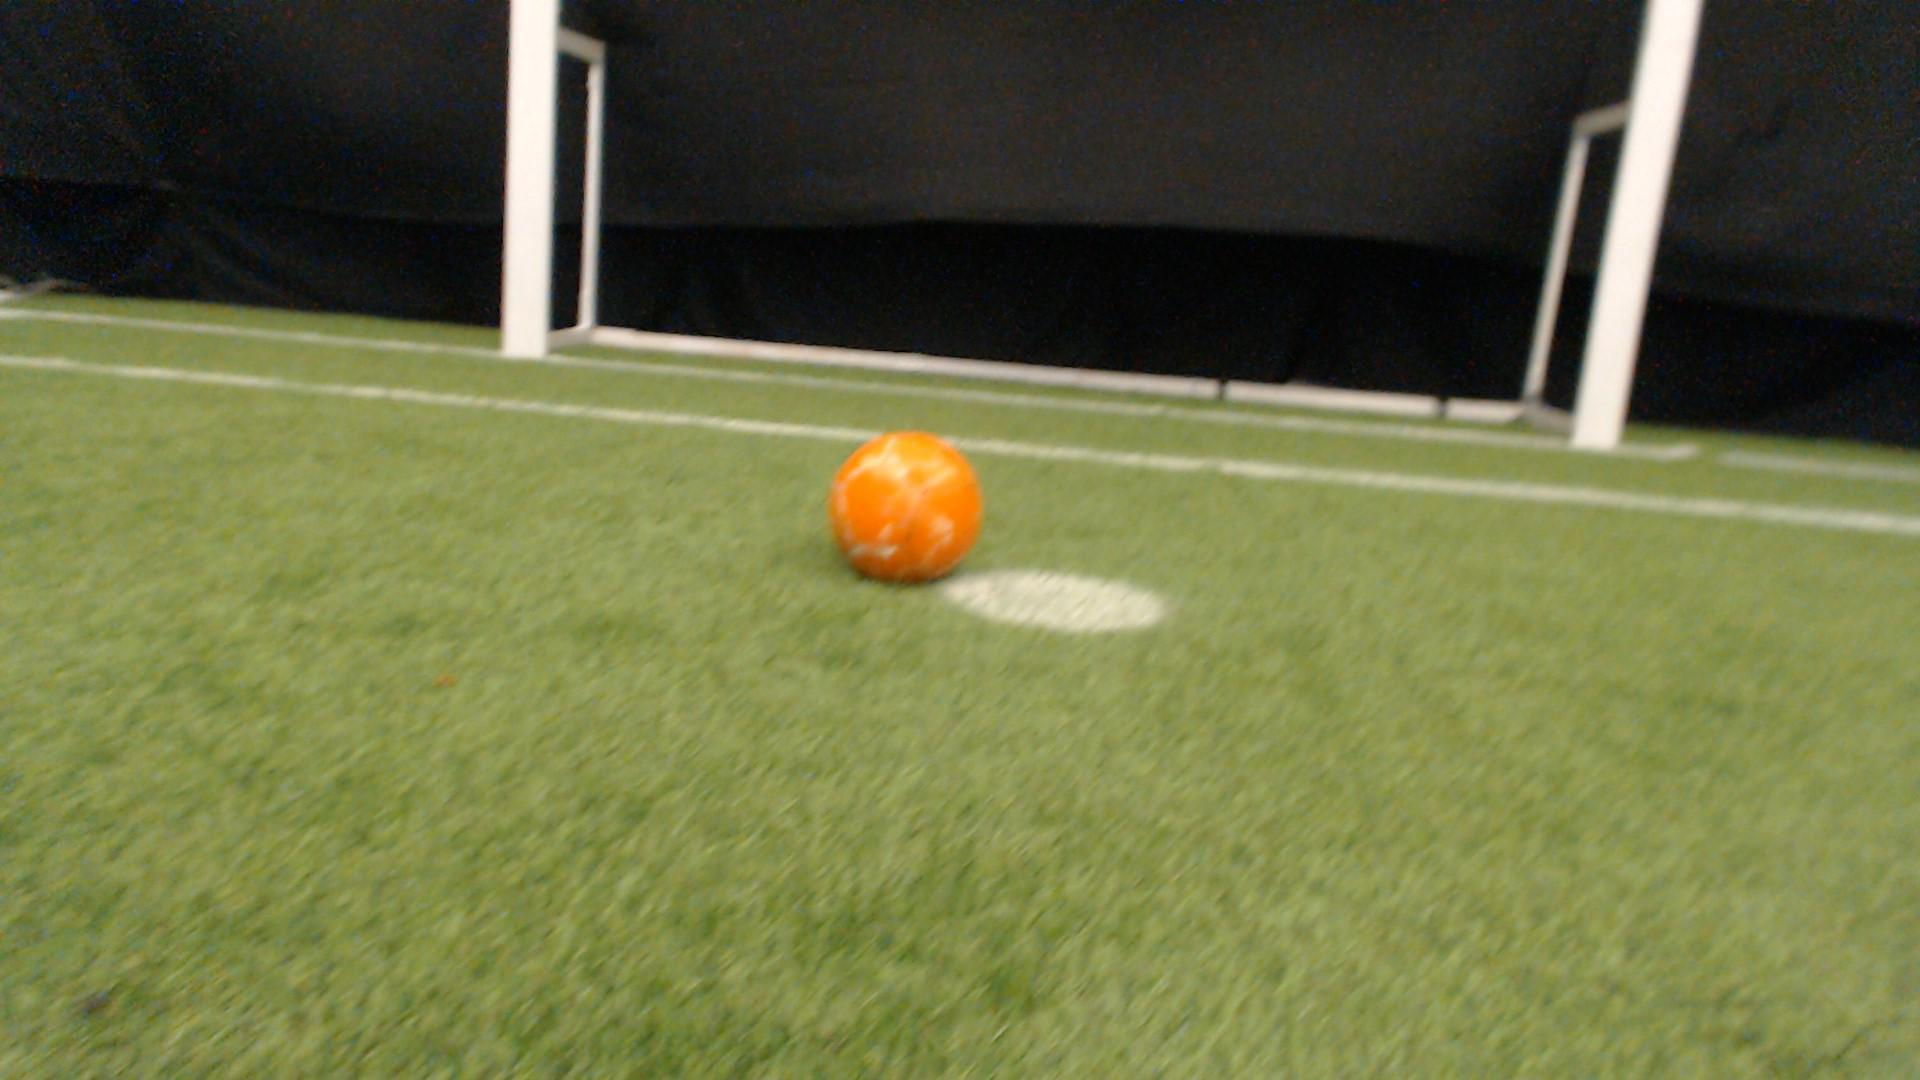bola: (823, 414, 1001, 595)
